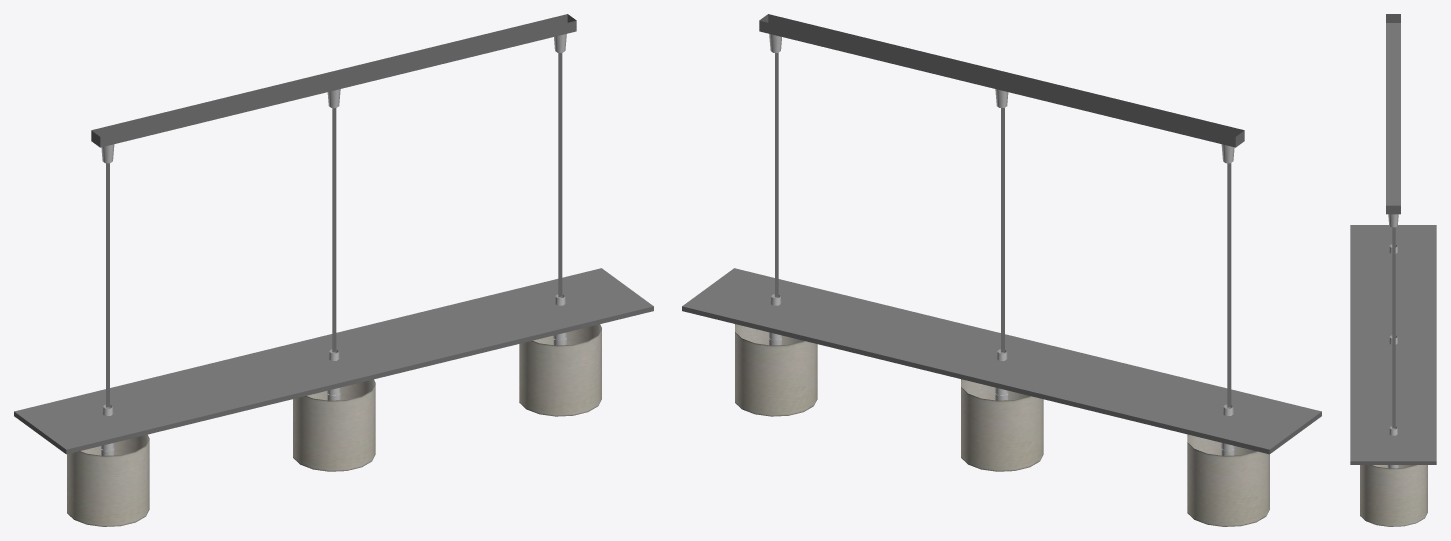
Rendered from CeilingLamp03.fbx.
The picture shows the model from 3 angles, left to right: view 1: azimuth 30°, elevation 25°; view 2: azimuth 150°, elevation 25°; view 3: azimuth 270°, elevation 25°; orthographic projection. The views are drawn at different scales.
Parts seen in each view (by area): view 1: Metal02, Tulipas, Tulipas3, Metal01; view 2: Metal02, Tulipas, Tulipas3, Metal01; view 3: Metal02, Tulipas, Tulipas3, Metal01.
Part boxes in pixels (x1,y1,x2,y2): Metal02: (14, 14, 653, 454); Tulipas: (67, 324, 601, 526); Tulipas3: (72, 325, 601, 523); Metal01: (101, 34, 566, 450); Metal02: (682, 14, 1321, 454); Tulipas: (735, 324, 1269, 526); Tulipas3: (735, 326, 1269, 519); Metal01: (769, 34, 1234, 450); Metal02: (1350, 14, 1436, 464); Tulipas: (1360, 465, 1427, 526); Tulipas3: (1362, 465, 1427, 525); Metal01: (1388, 214, 1398, 435).
Bounding box in the file's own units: 1.3 × 0.8 × 0.2.
